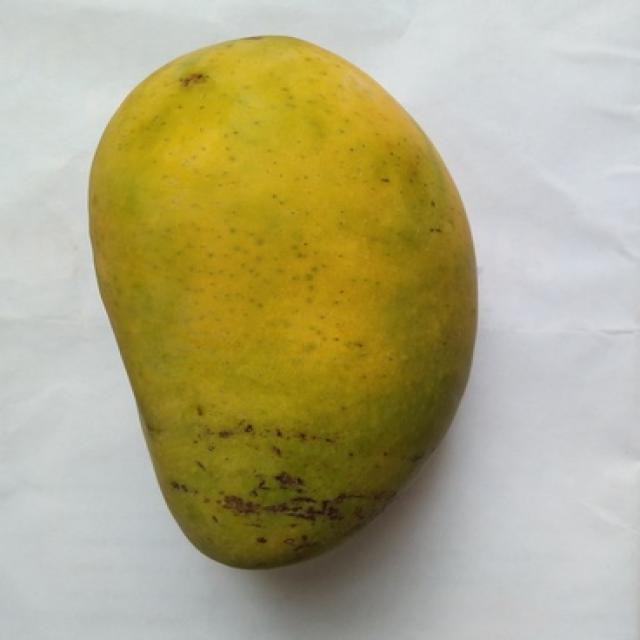Mango: (89, 36, 475, 566)
